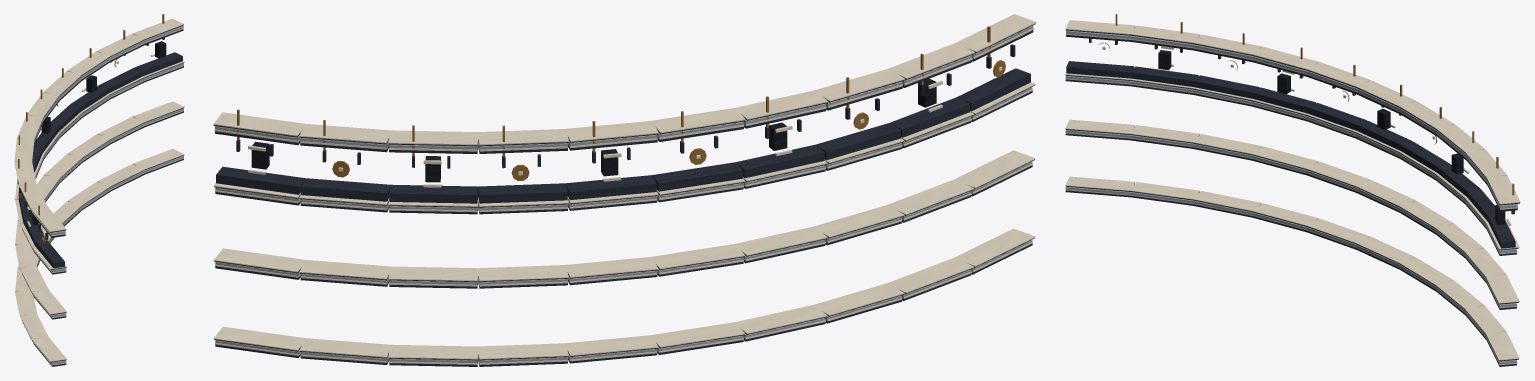
The model's file is COL_AtticCornice_Q3.glb.
The picture shows the model from 3 angles, left to right: view 1: azimuth 30°, elevation 25°; view 2: azimuth 150°, elevation 25°; view 3: azimuth 270°, elevation 25°; orthographic projection. The views are drawn at different scales.
Parts seen in each view (by area): view 1: COL_AtticCornice_Q3; view 2: COL_AtticCornice_Q3; view 3: COL_AtticCornice_Q3.
Boxes of the visible parts, <box> form: COL_AtticCornice_Q3: <box>14,14,184,366</box>; COL_AtticCornice_Q3: <box>213,14,1036,366</box>; COL_AtticCornice_Q3: <box>1065,14,1520,366</box>.
Bounding box in the file's own units: 111 × 49 × 116.
Materials: 5 (5 with a texture image).
